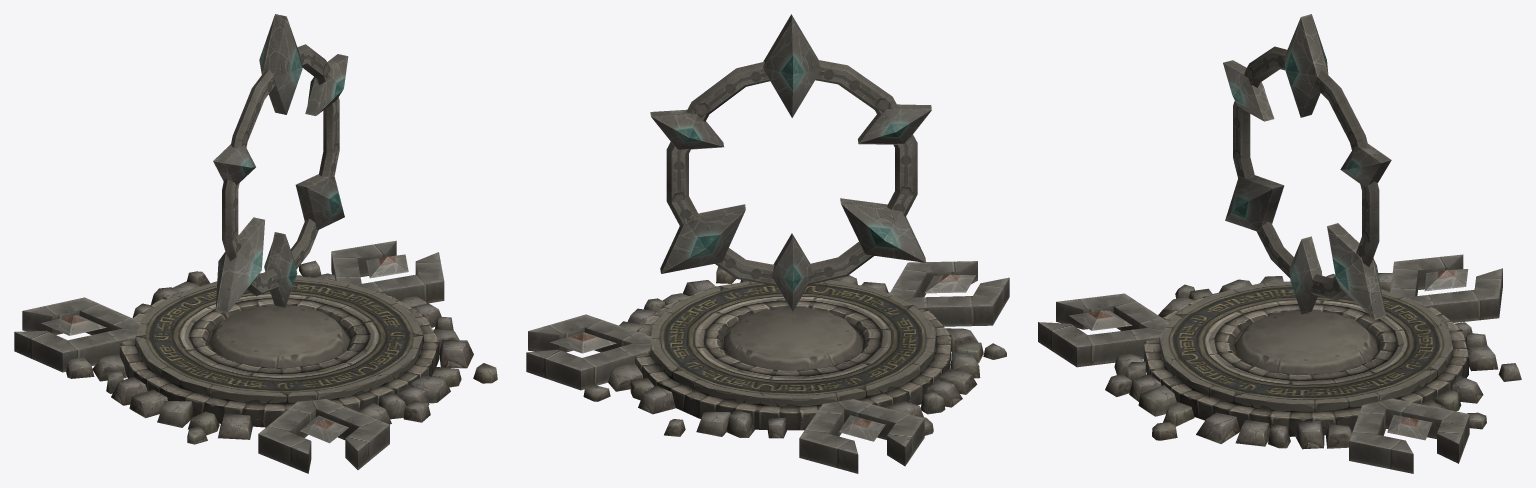
The model's file is chuansong.FBX.
3 renders of one model, left to right at view 1: azimuth 30°, elevation 25°; view 2: azimuth 150°, elevation 25°; view 3: azimuth 270°, elevation 25°, orthographic. The views are drawn at different scales.
Visible parts, largest first — view 1: Group46; view 2: Group46; view 3: Group46.
Boxes of the visible parts, bbox=[...] form: Group46: bbox=[14, 14, 497, 473]; Group46: bbox=[526, 14, 1009, 473]; Group46: bbox=[1038, 14, 1521, 473].
Bounding box in the file's own units: 688 × 568 × 705.
